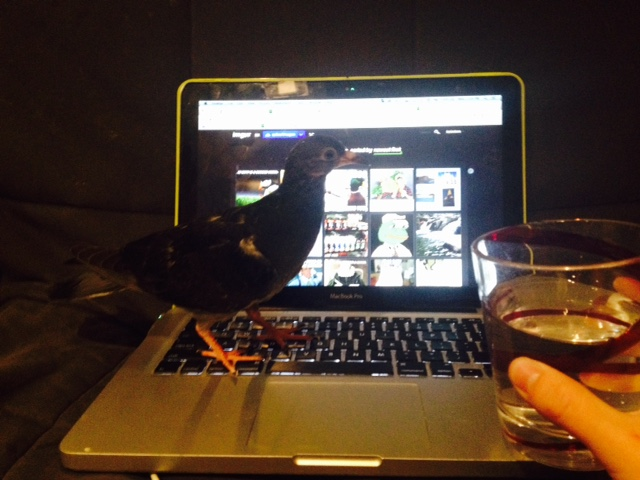glass of water: (474, 222, 637, 453)
